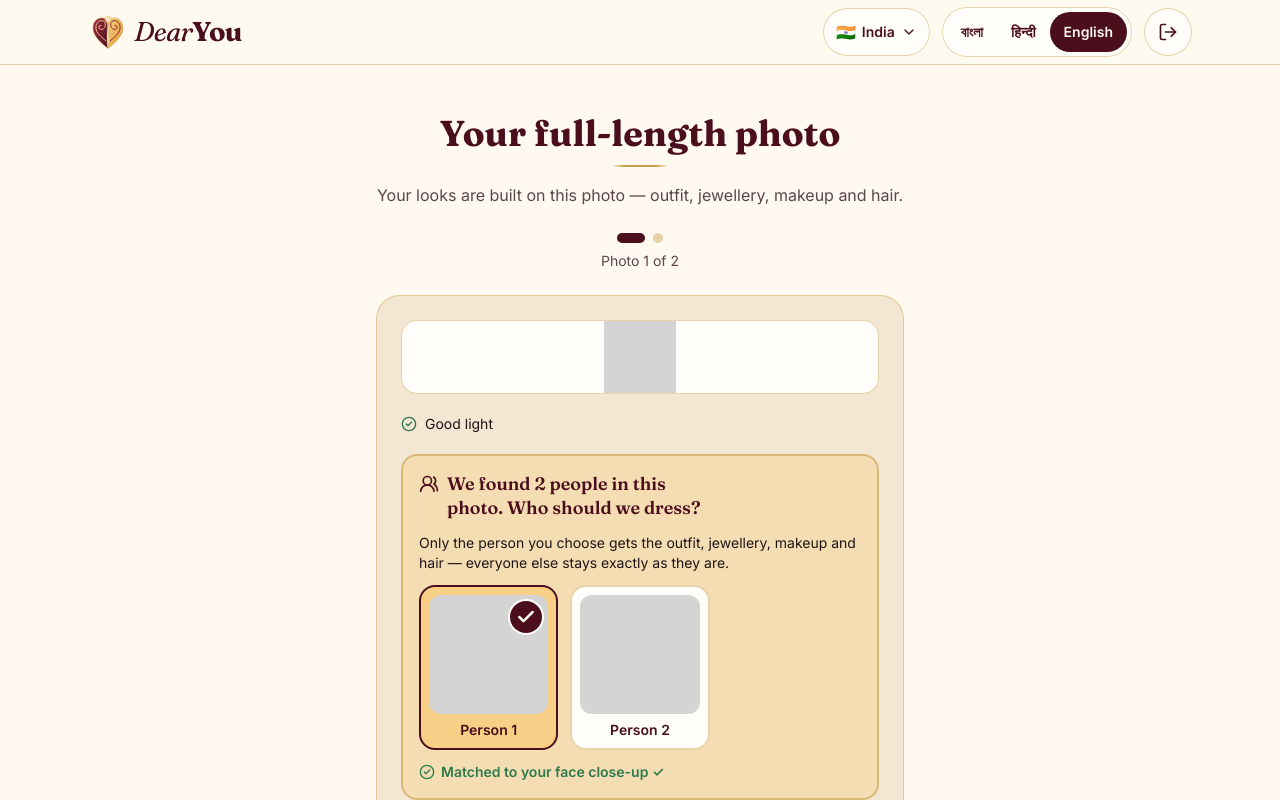
Test: who should we dress? (photo step) › puts the choice back if saving fails
Check: the element showing "Person 1 Person 2" is shown, box [419,585,710,750]
Step 1. Click the radio button labelled "Person 2" → (640, 668), box [570,585,710,750]
(page scrolled)
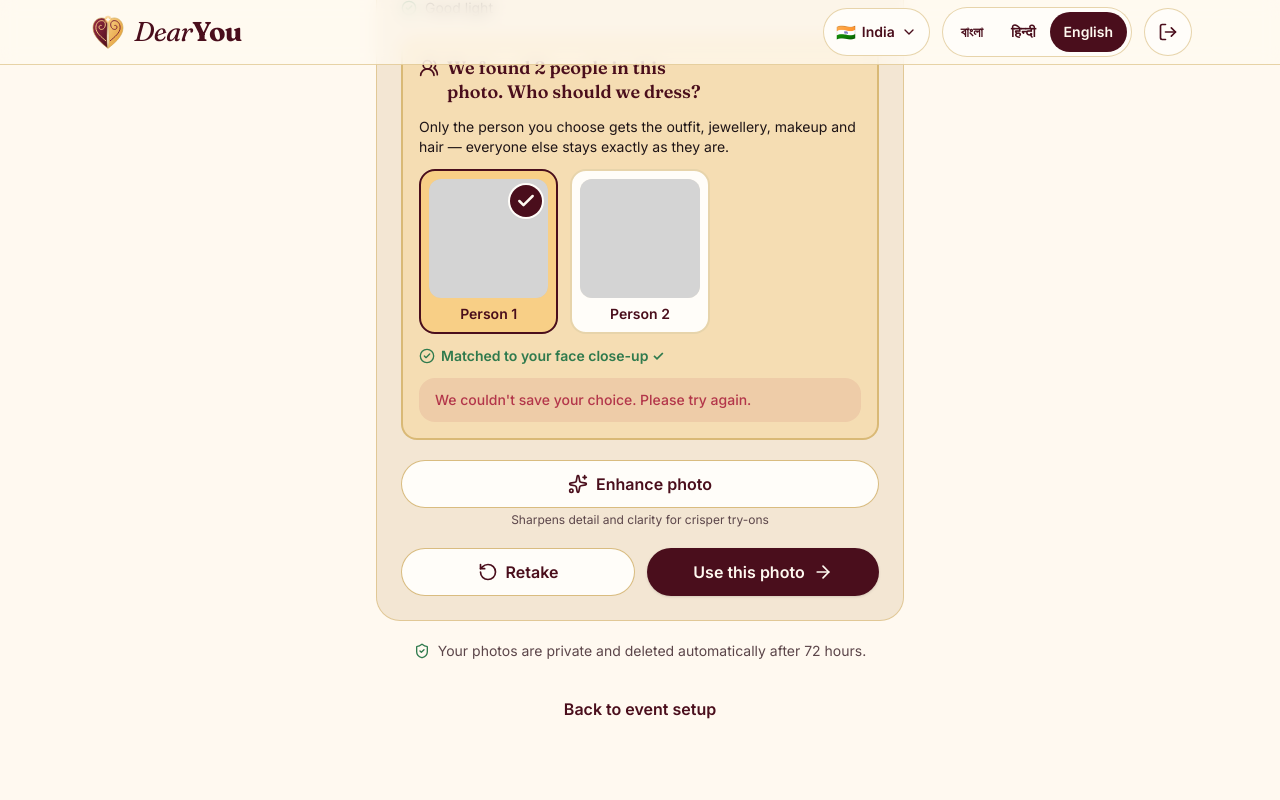
Check: the text "We couldn't save your choice. Please try again." is shown, box [419,378,861,422]
